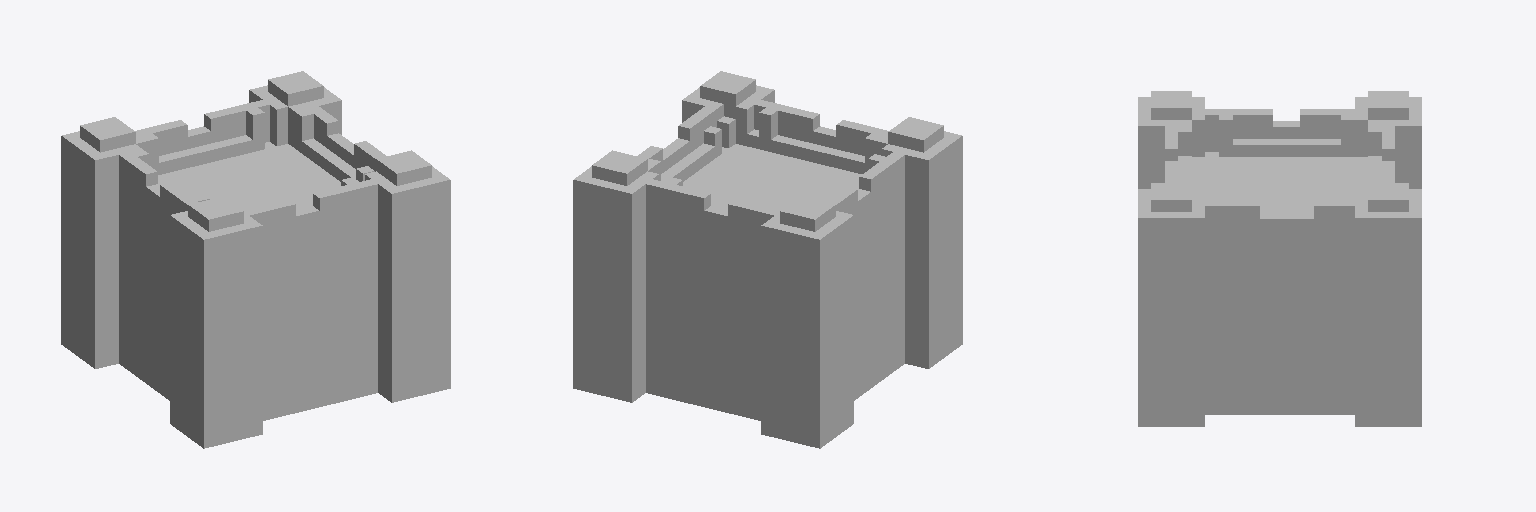
File: MortarTowerBottom.obj
3 renders of one model, left to right at view 1: azimuth 30°, elevation 25°; view 2: azimuth 150°, elevation 25°; view 3: azimuth 270°, elevation 25°, orthographic.
Visible parts, largest first — view 1: Untitled; view 2: Untitled; view 3: Untitled.
Part boxes in pixels (bbox=[...]): Untitled: bbox=[61, 71, 450, 448]; Untitled: bbox=[573, 71, 962, 448]; Untitled: bbox=[1138, 91, 1421, 426].
Bounding box in the file's own units: 2.1 × 1.8 × 2.1.